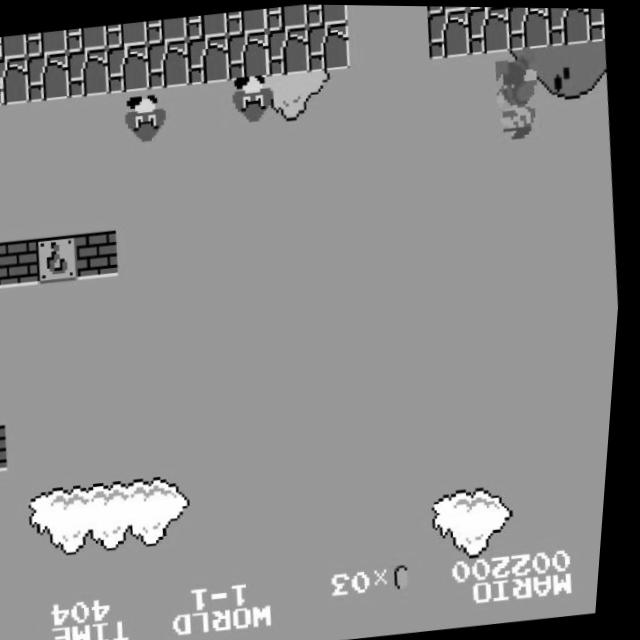0- big_mario: (490, 42, 549, 142)
1- brick_block: (76, 229, 125, 280), (0, 237, 45, 289), (0, 424, 17, 473)
13- mystery_block: (36, 233, 85, 285)
17- undestructible_block: (424, 7, 473, 59), (304, 20, 353, 72), (224, 29, 273, 81), (184, 33, 233, 85), (104, 42, 153, 94), (264, 25, 313, 76), (144, 38, 193, 89), (64, 47, 113, 98), (25, 51, 74, 102), (464, 5, 513, 54), (503, 6, 552, 49), (544, 6, 592, 45), (0, 55, 33, 106), (184, 11, 229, 40), (65, 24, 109, 53), (264, 3, 309, 31), (224, 7, 269, 35), (104, 20, 149, 48), (24, 29, 69, 57), (145, 16, 189, 44), (304, 4, 348, 26), (0, 33, 29, 61), (584, 7, 606, 40), (424, 5, 467, 12)
8- goomba: (229, 71, 282, 126)
